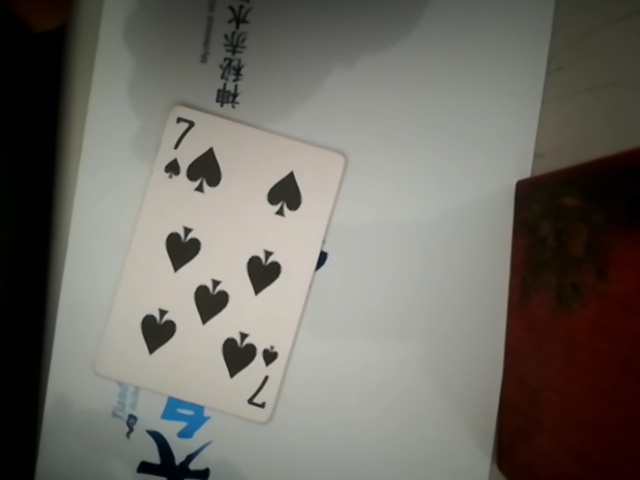ht 7: (112, 108, 343, 426)
